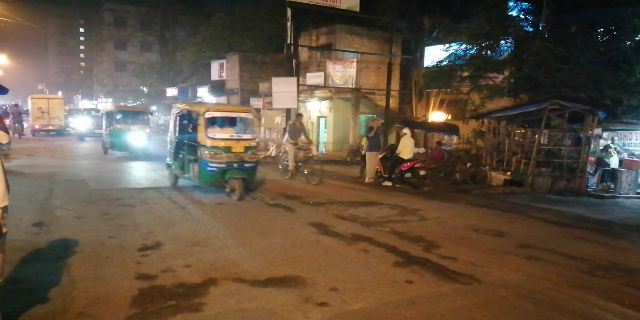Autorickshaw: (170, 94, 264, 200), (106, 101, 157, 163)
